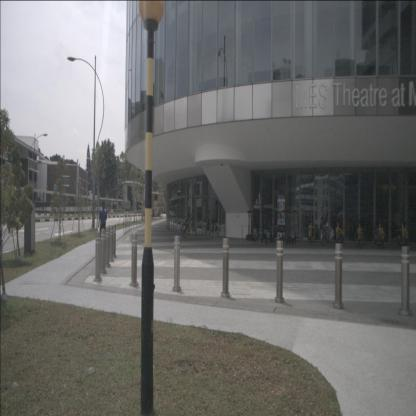human-pedestrian-adult: (98, 202, 107, 251)
vehicle-bicycle: (182, 209, 196, 238), (204, 216, 219, 236)
vehicle-bus-rigid: (141, 192, 163, 217)
